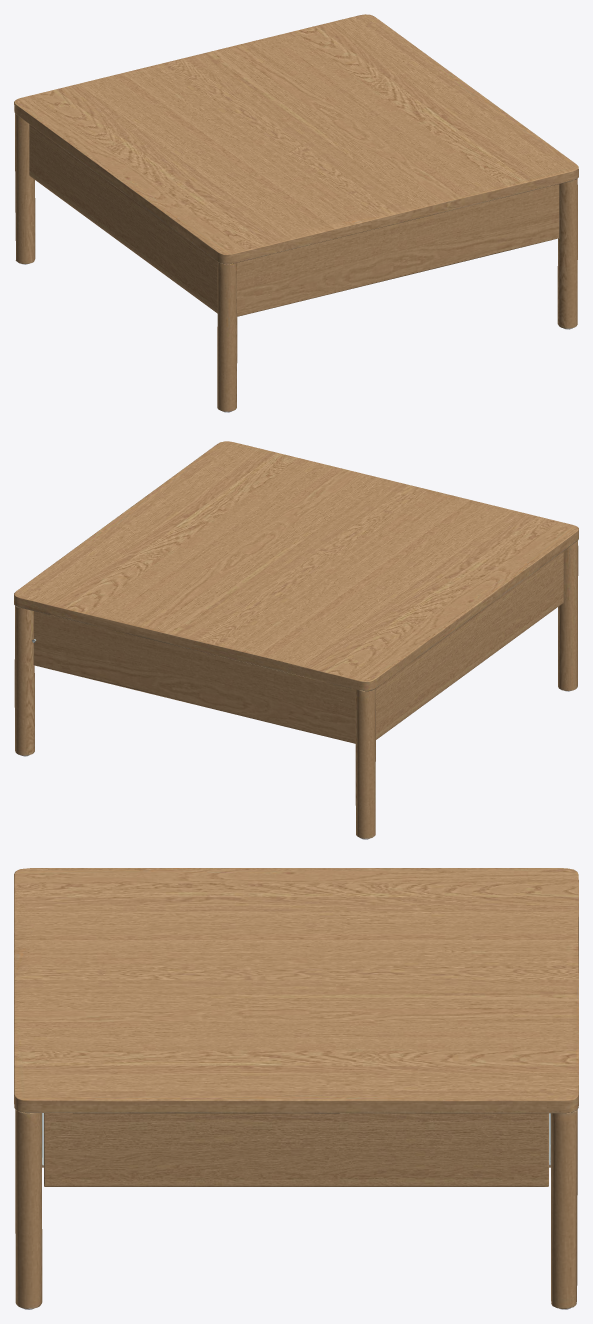
Rendered from tonstad_stolik_kawowy_10489311.glb.
3 renders of one model, top to bottom at view 1: azimuth 30°, elevation 25°; view 2: azimuth 150°, elevation 25°; view 3: azimuth 270°, elevation 25°, orthographic. The views are drawn at different scales.
Parts seen in each view (by area): view 1: tonstad_stolik_kawowy_10489311; view 2: tonstad_stolik_kawowy_10489311; view 3: tonstad_stolik_kawowy_10489311.
Part boxes in pixels (box(x1,y1,x2,y2)): tonstad_stolik_kawowy_10489311: box(14, 14, 578, 412); tonstad_stolik_kawowy_10489311: box(14, 441, 578, 839); tonstad_stolik_kawowy_10489311: box(14, 868, 578, 1309).
Size of the model in its own units: 0.8211 by 0.35 by 0.843.
Materials: 3 (3 with a texture image).
